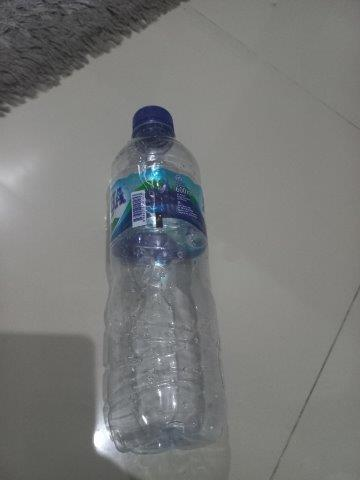botolplastik: (105, 105, 221, 450)
